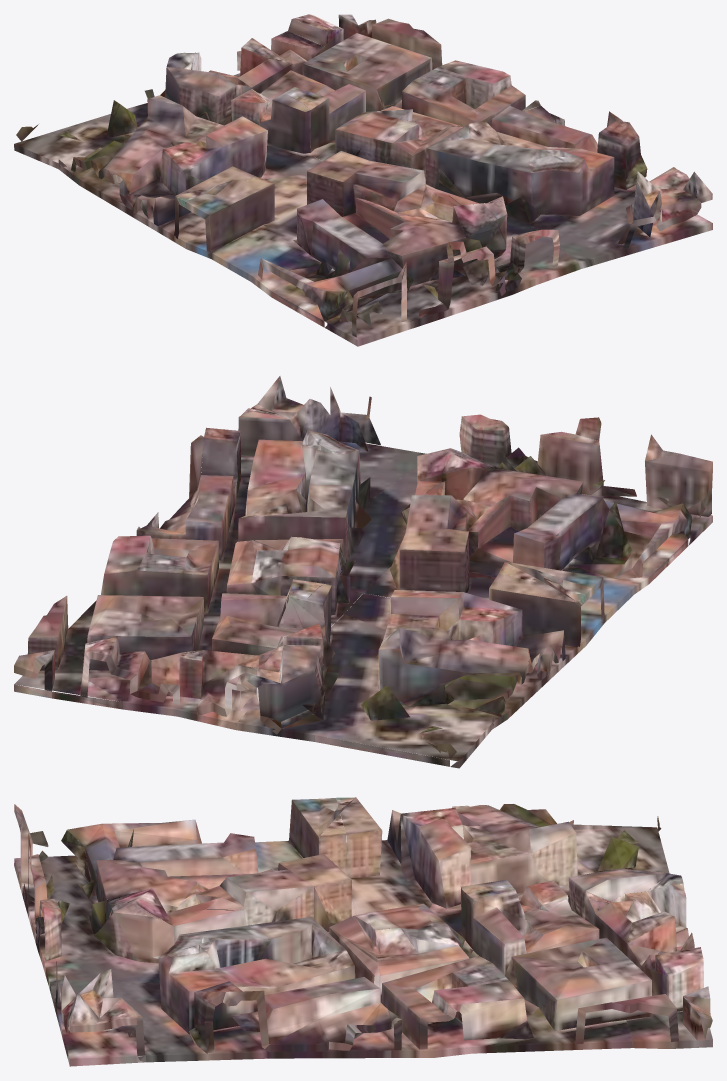
3 renders of one model, top to bottom at view 1: azimuth 30°, elevation 25°; view 2: azimuth 150°, elevation 25°; view 3: azimuth 270°, elevation 25°, orthographic. The views are drawn at different scales.
Visible parts, largest first — view 1: Mesh_0; view 2: Mesh_0; view 3: Mesh_0.
Part boxes in pixels (left/top/right/bottom): Mesh_0: left=14, top=14, right=712, bottom=346; Mesh_0: left=14, top=376, right=712, bottom=768; Mesh_0: left=14, top=797, right=712, bottom=1066.
Bounding box in the file's own units: 266 × 47.09 × 330.
Materials: 2 (2 with a texture image).
